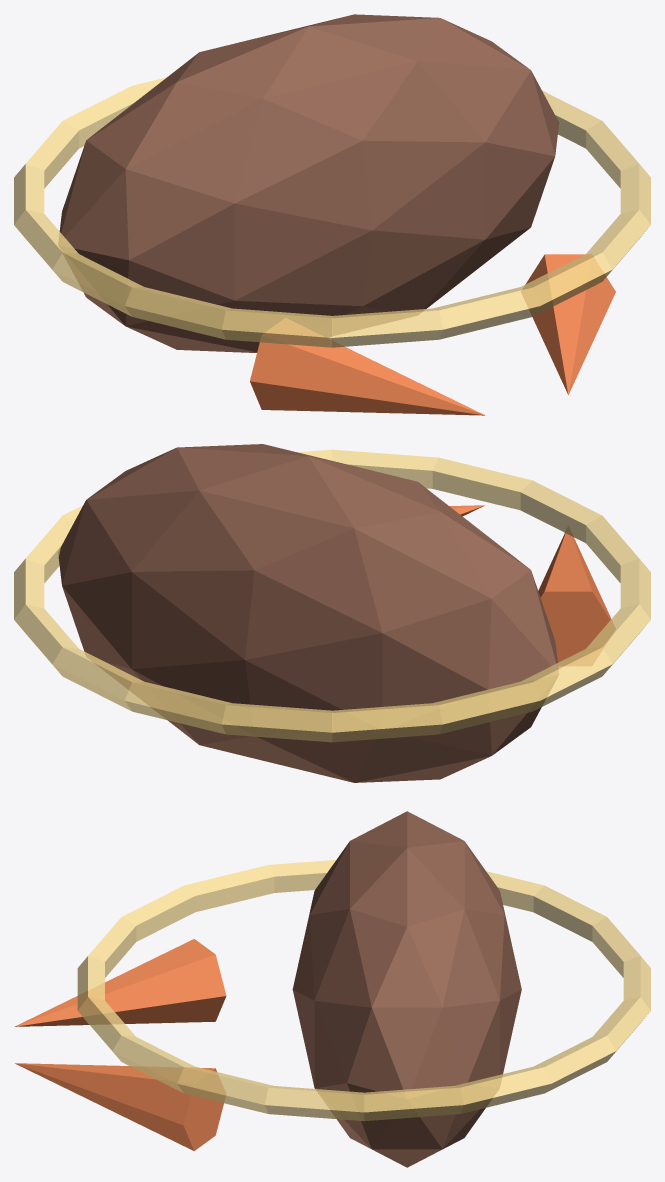
The model's file is 03_creature_skin_element_overlay_3.glb.
3 renders of one model, top to bottom at view 1: azimuth 30°, elevation 25°; view 2: azimuth 150°, elevation 25°; view 3: azimuth 270°, elevation 25°, orthographic. The views are drawn at different scales.
Visible parts, largest first — view 1: skin_patch_body, element_aura, elemental_horn_l, elemental_horn_r; view 2: skin_patch_body, element_aura, elemental_horn_l; view 3: skin_patch_body, element_aura, elemental_horn_l, elemental_horn_r.
Part boxes in pixels (box(x1,y1,x2,y2)): skin_patch_body: box(58, 14, 558, 352); element_aura: box(14, 77, 650, 347); elemental_horn_l: box(250, 318, 485, 415); elemental_horn_r: box(521, 254, 615, 394); skin_patch_body: box(58, 444, 558, 782); element_aura: box(14, 449, 650, 742); elemental_horn_l: box(538, 526, 615, 665); skin_patch_body: box(292, 811, 521, 1167); element_aura: box(77, 860, 650, 1121); elemental_horn_l: box(14, 939, 226, 1026); elemental_horn_r: box(15, 1063, 225, 1150).
Size of the model in its own units: 0.95 by 0.51 by 1.04.
